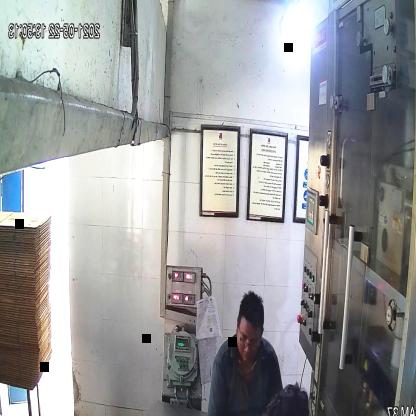goggles: (236, 330, 262, 354)
